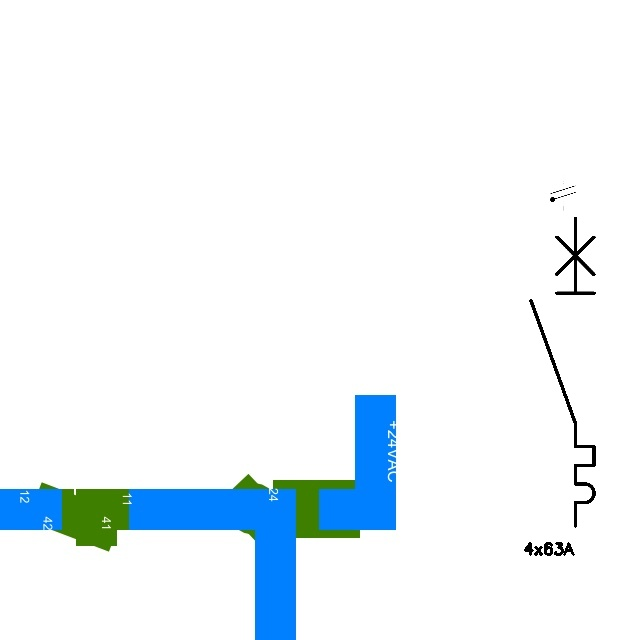interruptor_termomagnetico: (523, 210, 602, 534)
